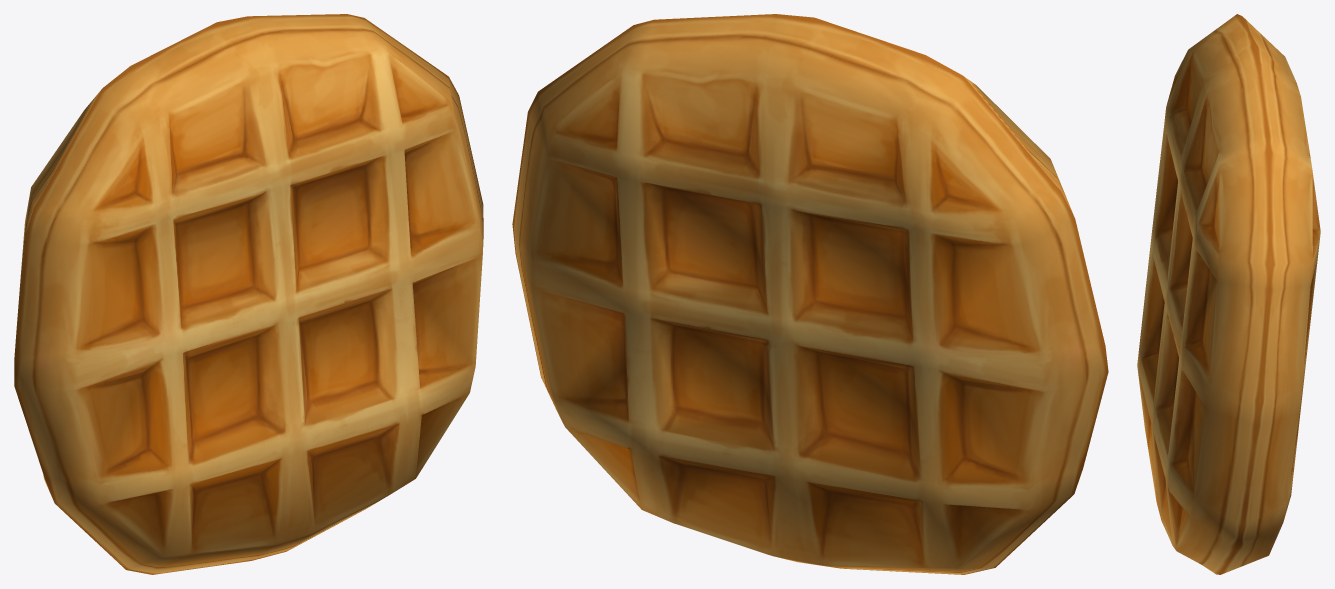
The model's file is waffle.FBX.
The picture shows the model from 3 angles, left to right: view 1: azimuth 30°, elevation 25°; view 2: azimuth 150°, elevation 25°; view 3: azimuth 270°, elevation 25°; orthographic projection. The views are drawn at different scales.
Parts seen in each view (by area): view 1: waffle; view 2: waffle; view 3: waffle.
Part boxes in pixels (box(x1,y1,x2,y2)): waffle: box(14, 14, 483, 574); waffle: box(512, 14, 1108, 574); waffle: box(1137, 14, 1320, 574).
Size of the model in its own units: 36.45 by 36.04 by 12.29.
